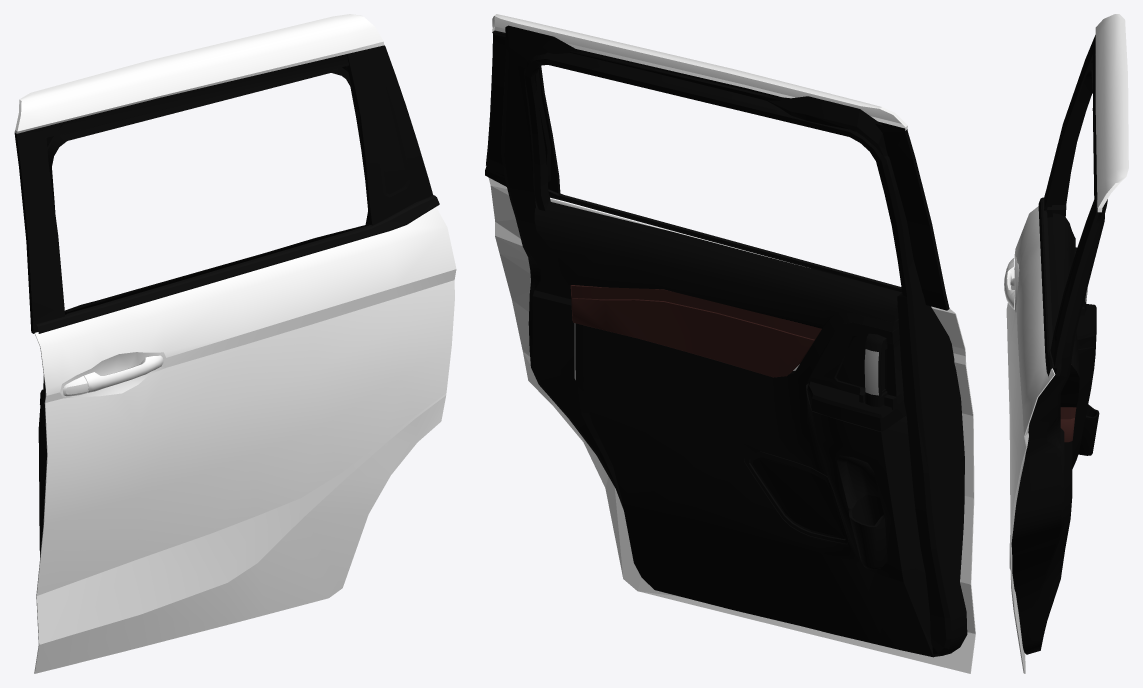
File: door_back_left.FBX
3 renders of one model, left to right at view 1: azimuth 30°, elevation 25°; view 2: azimuth 150°, elevation 25°; view 3: azimuth 270°, elevation 25°, orthographic. The views are drawn at different scales.
Parts seen in each view (by area): view 1: 左侧门控制; view 2: 左侧门控制; view 3: 左侧门控制.
Boxes of the visible parts, x1=… form: 左侧门控制: x1=14, y1=14, x2=456, y2=673; 左侧门控制: x1=485, y1=14, x2=975, y2=673; 左侧门控制: x1=1004, y1=14, x2=1128, y2=673.
Bounding box in the file's own units: 40.54 × 48.94 × 10.31.
